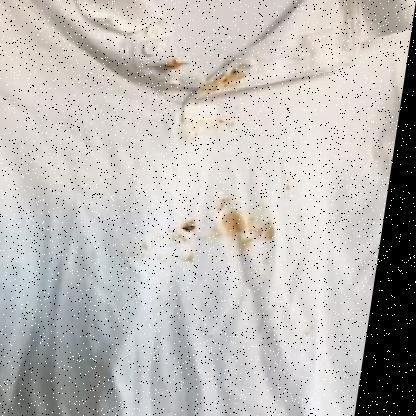coffee: (222, 211, 245, 234), (216, 72, 241, 85)
